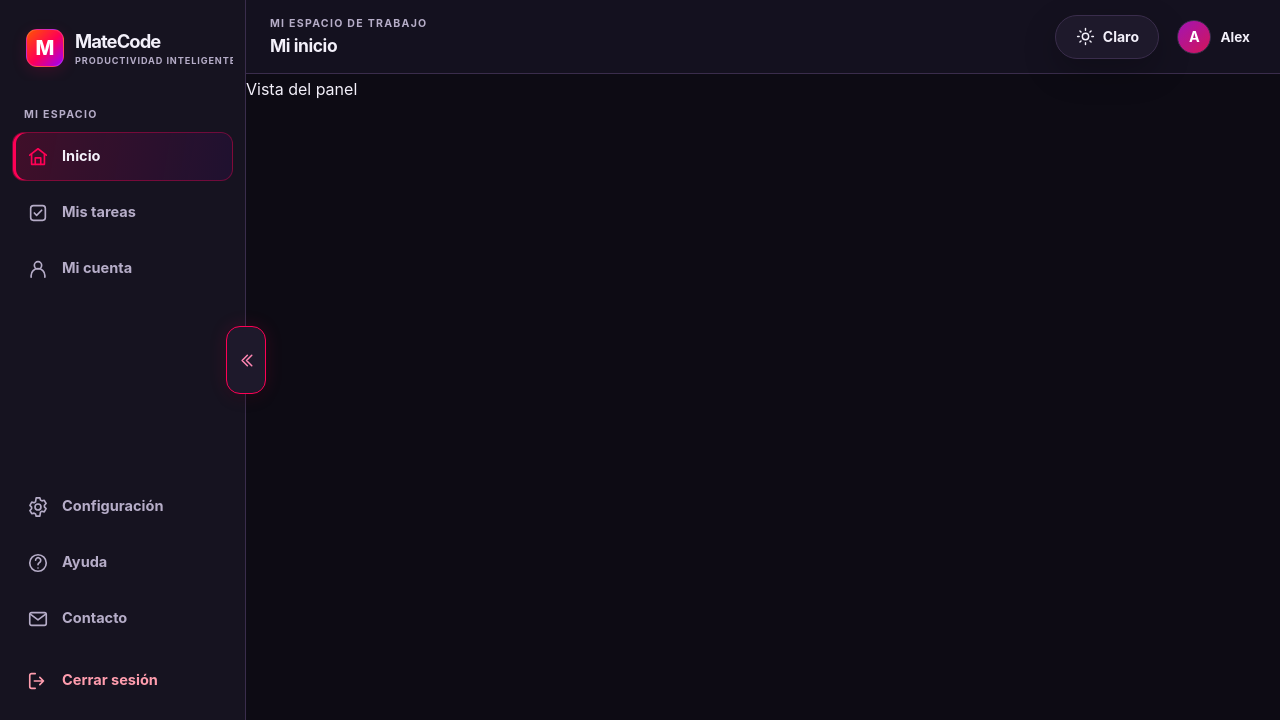
it: PrivateLayout de MateCode › permite contraer y expandir el menú
Click the button named "Contraer menú" at (246, 360), box x1=226 y1=326 x2=266 y2=394
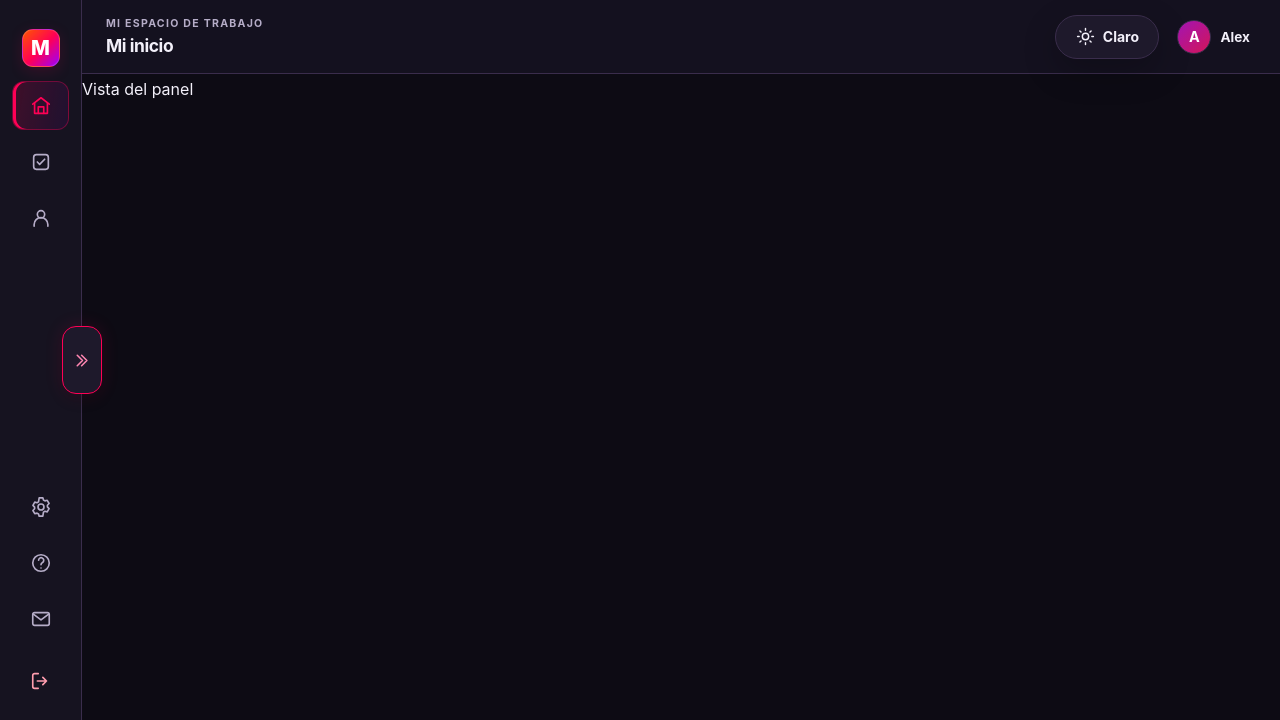
Check: the button named "Expandir menú" is shown, box x1=62 y1=326 x2=102 y2=394
Check: the element that starts with "MI ESPACIO DE TRABAJO" is shown
